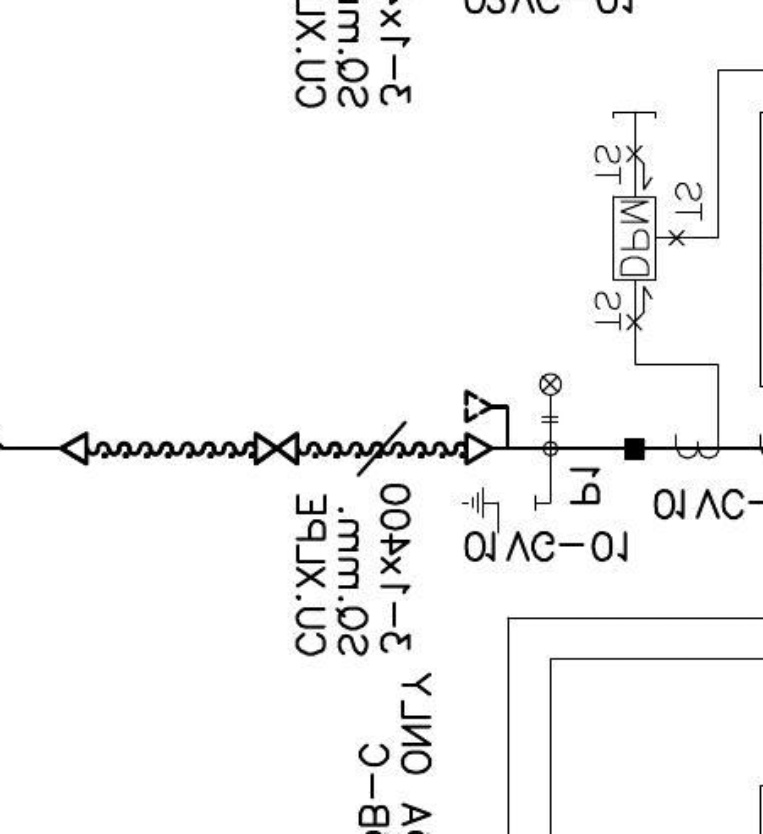22_gs: (462, 485, 539, 534)
22_ll: (538, 372, 563, 424)
DPM: (610, 194, 658, 283)
terminator_single: (59, 429, 91, 467)
terminator_splicing_kits: (253, 431, 300, 466)
terminator_w_future: (462, 388, 512, 468)
